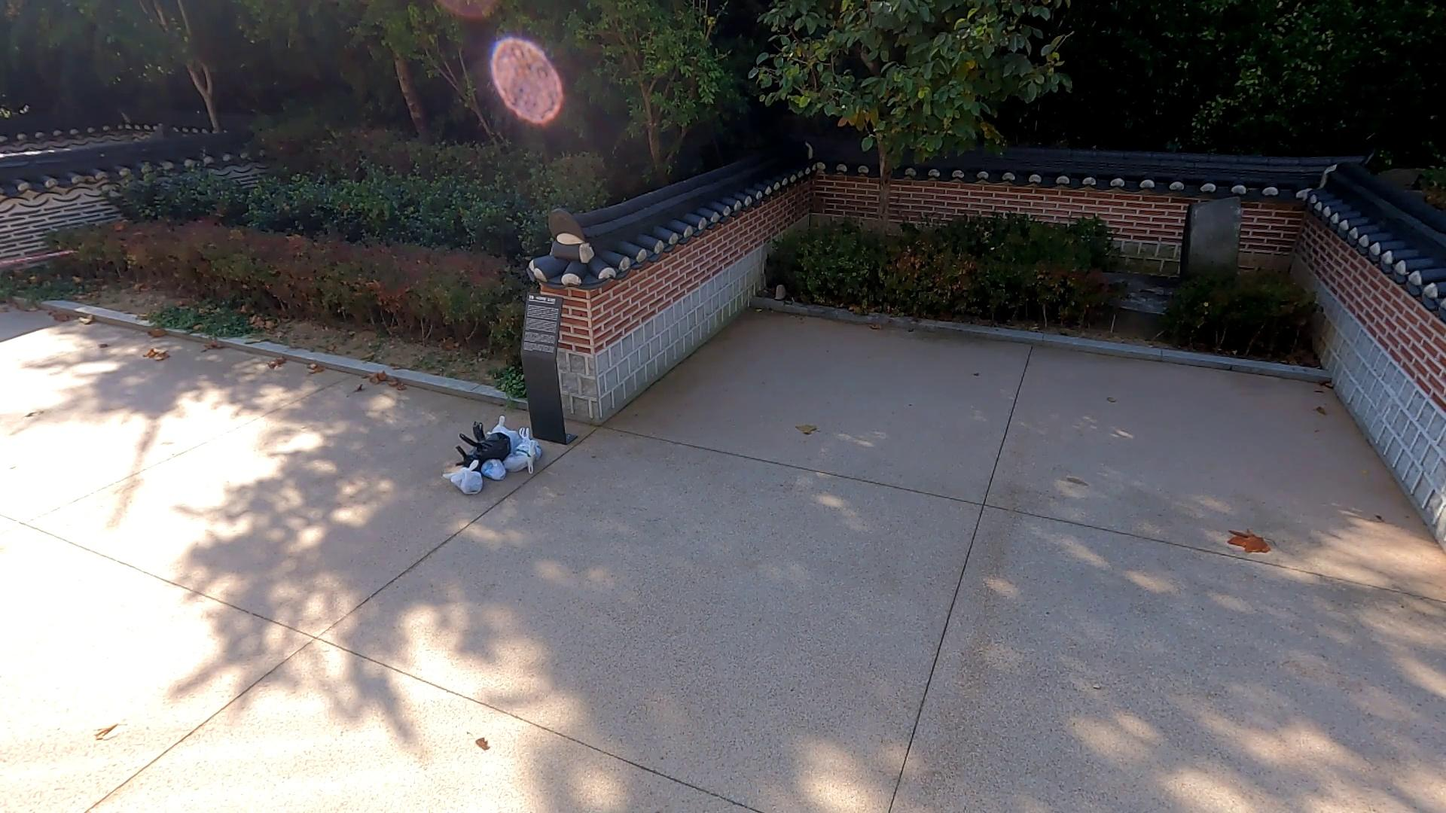trash: (459, 421, 510, 457), (443, 459, 486, 495), (504, 444, 539, 474), (488, 416, 522, 444), (519, 425, 543, 460), (451, 445, 482, 469), (482, 458, 505, 481)
